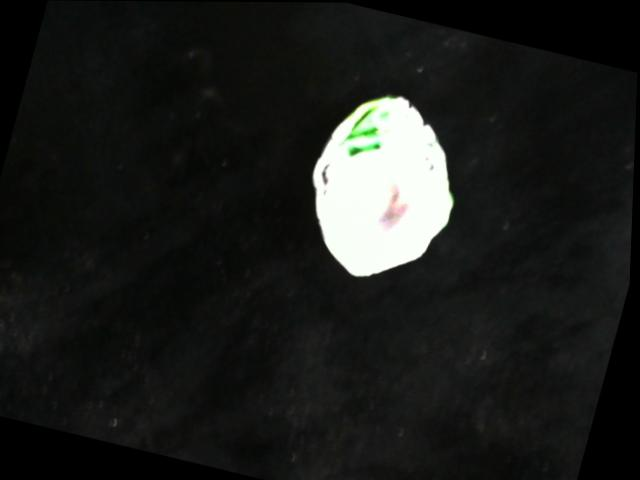can: (308, 83, 465, 284)
